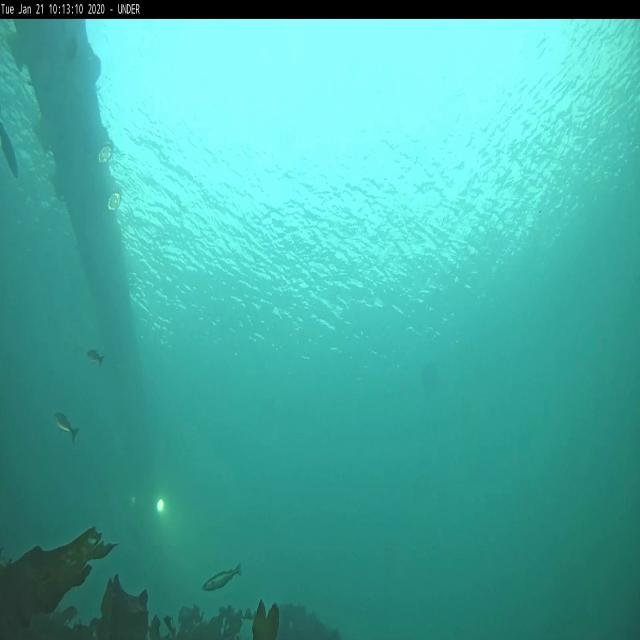fish: (202, 564, 243, 595), (0, 121, 22, 175), (54, 410, 80, 445), (86, 350, 104, 370)
